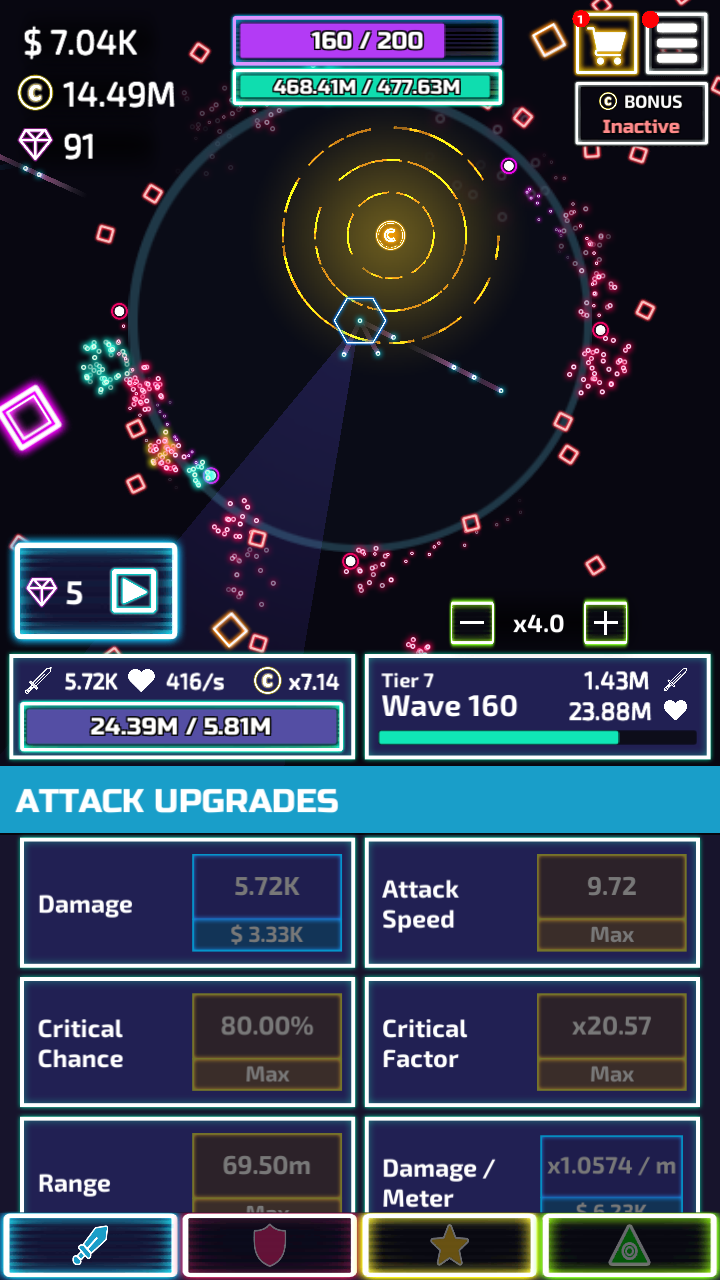B_Gem_Ad: (13, 540, 179, 638)
B_Menu_Action_Required: (638, 7, 705, 72)
B_Menu_Closed: (572, 9, 708, 74)
B_Shop_Action_Required: (570, 16, 641, 73)
B_Slot: (20, 976, 354, 1100), (364, 838, 697, 961), (364, 977, 694, 1100), (21, 838, 348, 959), (361, 1118, 696, 1212), (21, 1120, 346, 1208)
B_Slot_Button: (534, 855, 685, 950), (190, 856, 342, 950), (189, 998, 343, 1090), (534, 998, 686, 1089), (534, 1131, 690, 1210), (186, 1135, 341, 1209)
B_Slot_Label: (26, 1009, 147, 1083), (367, 1147, 510, 1209), (369, 1007, 490, 1076), (370, 865, 481, 937), (24, 880, 159, 925), (25, 1159, 128, 1205)
B_Slot_Maxed: (185, 993, 345, 1094), (532, 993, 688, 1093), (533, 855, 682, 953), (185, 1131, 340, 1208)
B_Slot_Price: (213, 918, 317, 947)
B_Slot_Value: (536, 1138, 685, 1183), (202, 1006, 328, 1044), (203, 1146, 320, 1183), (551, 1007, 662, 1045), (213, 865, 319, 904), (562, 866, 649, 905)
B_Tab_Attack: (0, 767, 720, 830)
